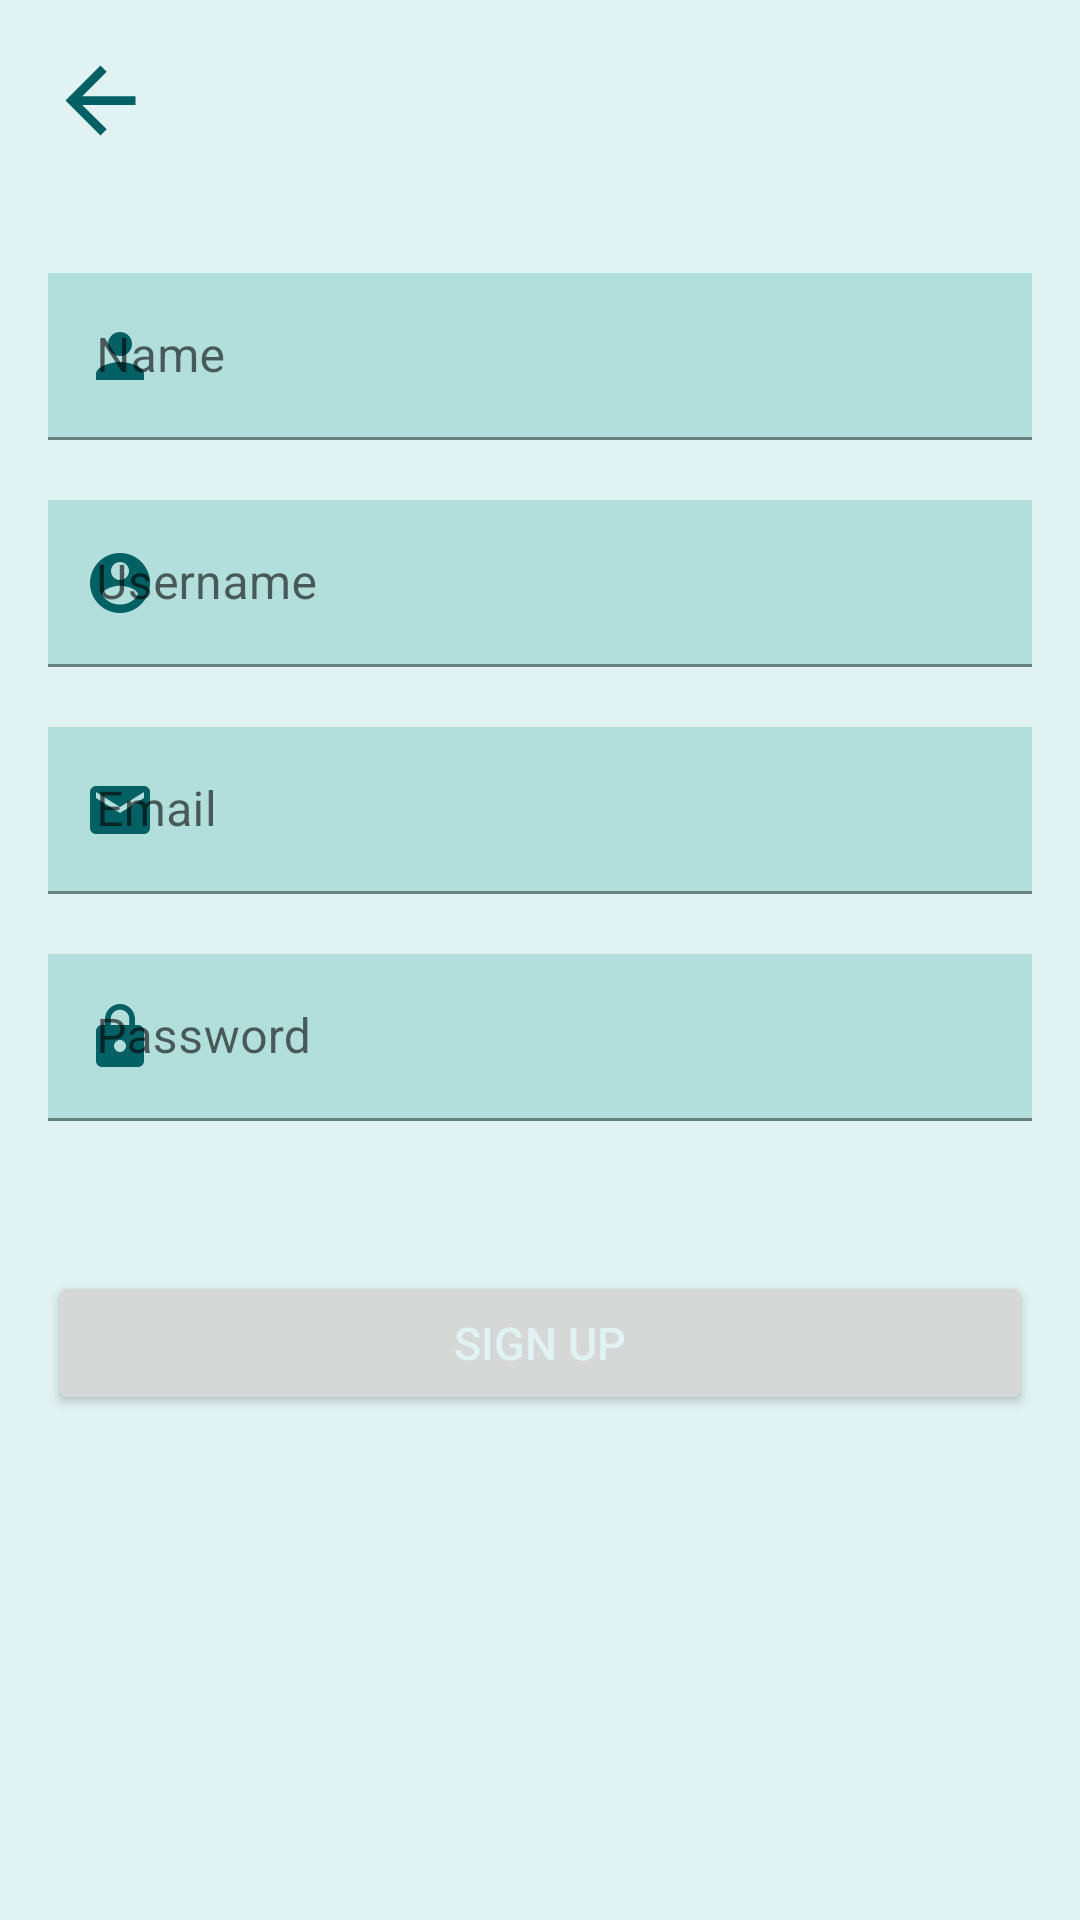

Screen size 1080 x 1920. Icon name, then its center in pixels as [x,y]:
arrow back: [100,100]
